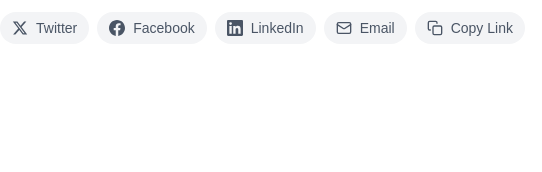
it: ShareButtons › copies URL to clipboard and shows "Copied!" feedback
Click the button "Copy Link": (470,28) [415,12,525,44]
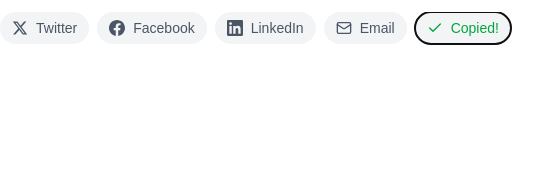
Expected: the text "Copied!" is shown, [451,18,499,38]
